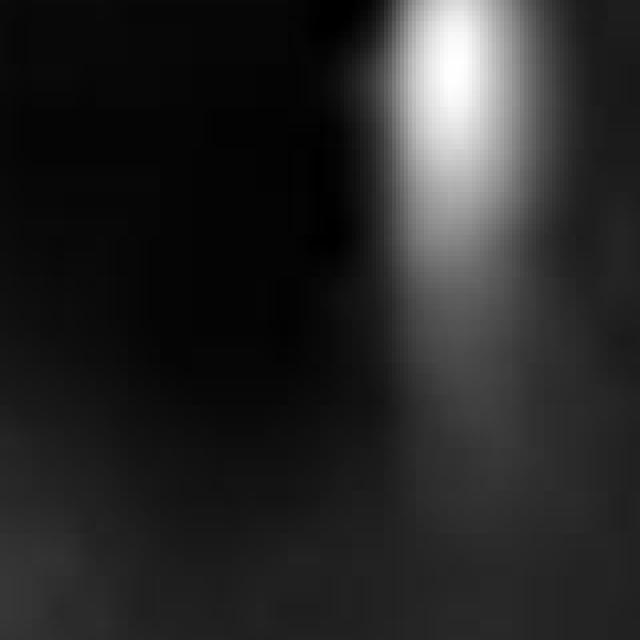person: (353, 1, 569, 449)
